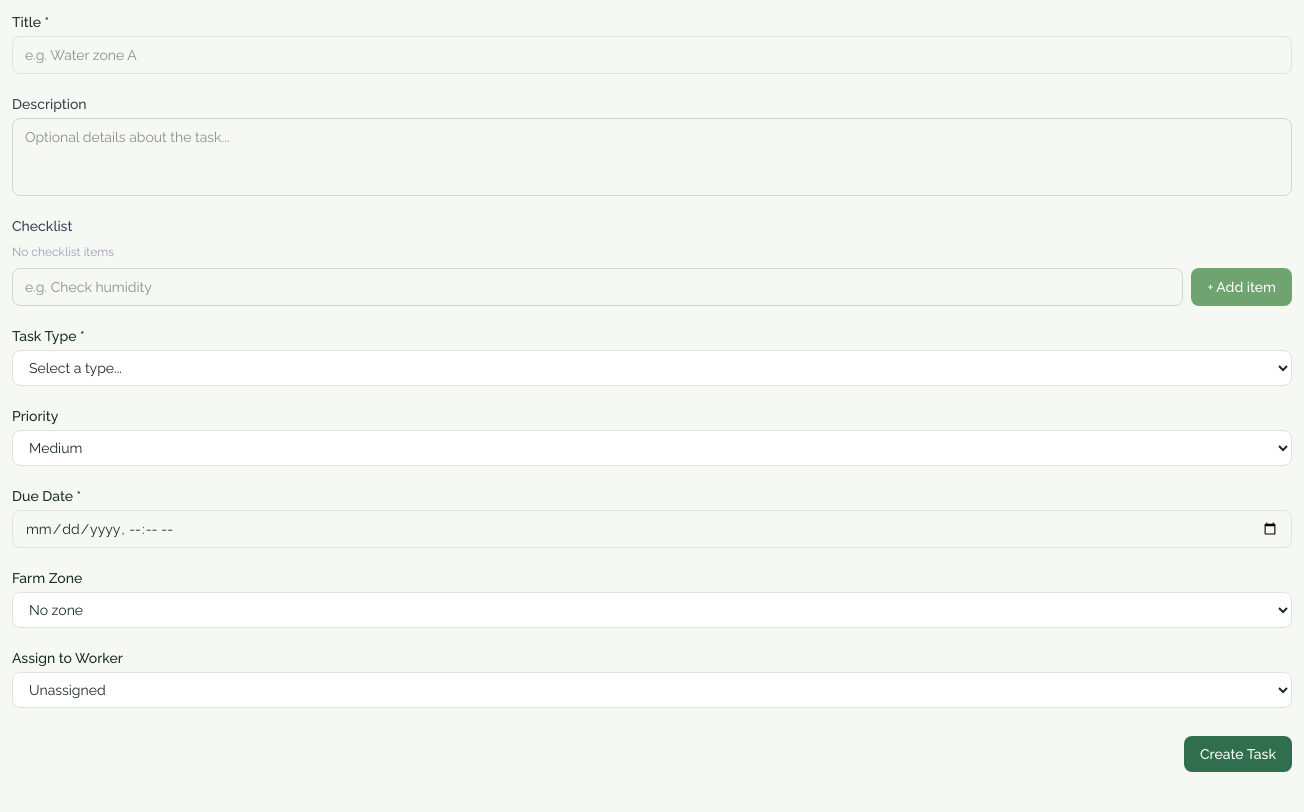
TaskForm – checklist section › adds a new checklist item via the Enter key
Type "Enter step" into the field with placeholder "e.g. Check humidity".
click(598, 287); type("Enter step")  # box [12,268,1183,306]
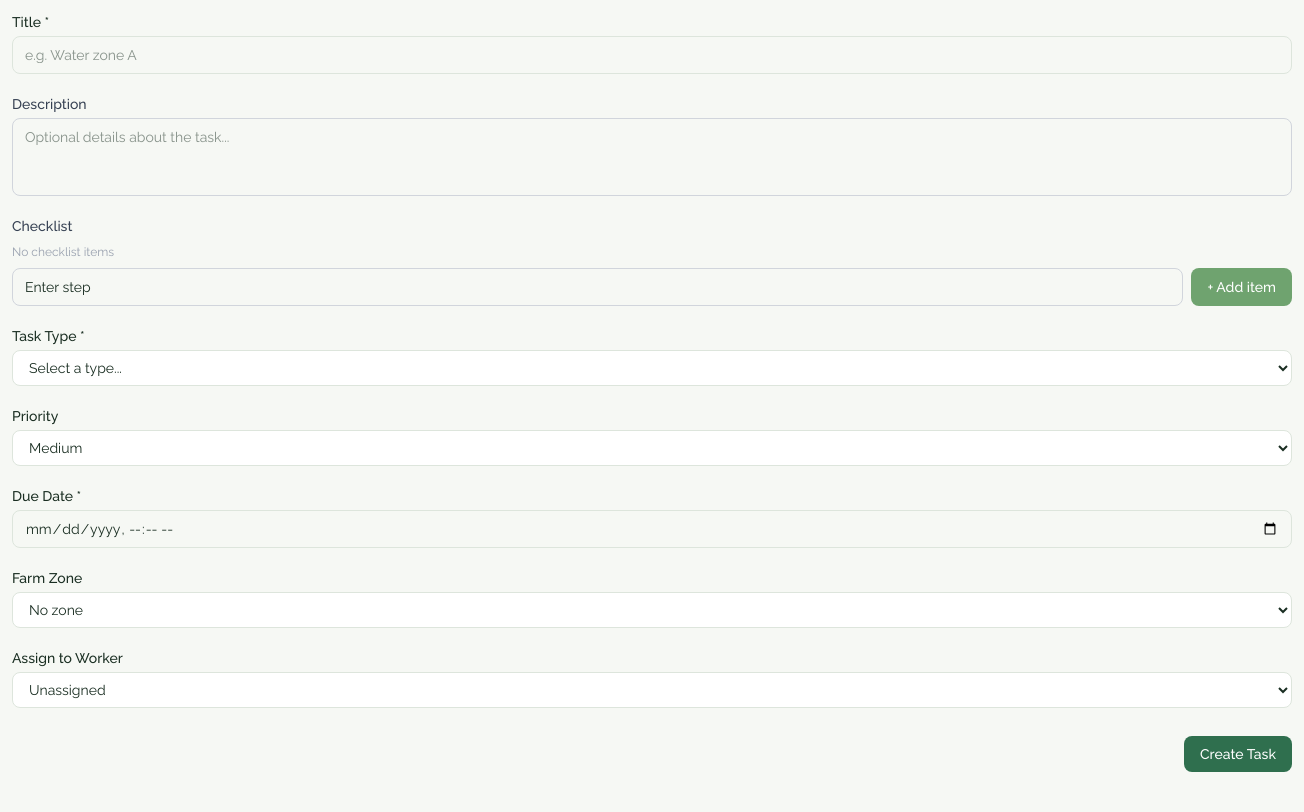
Press Enter in the field with placeholder "e.g. Check humidity", box [12,268,1183,306]
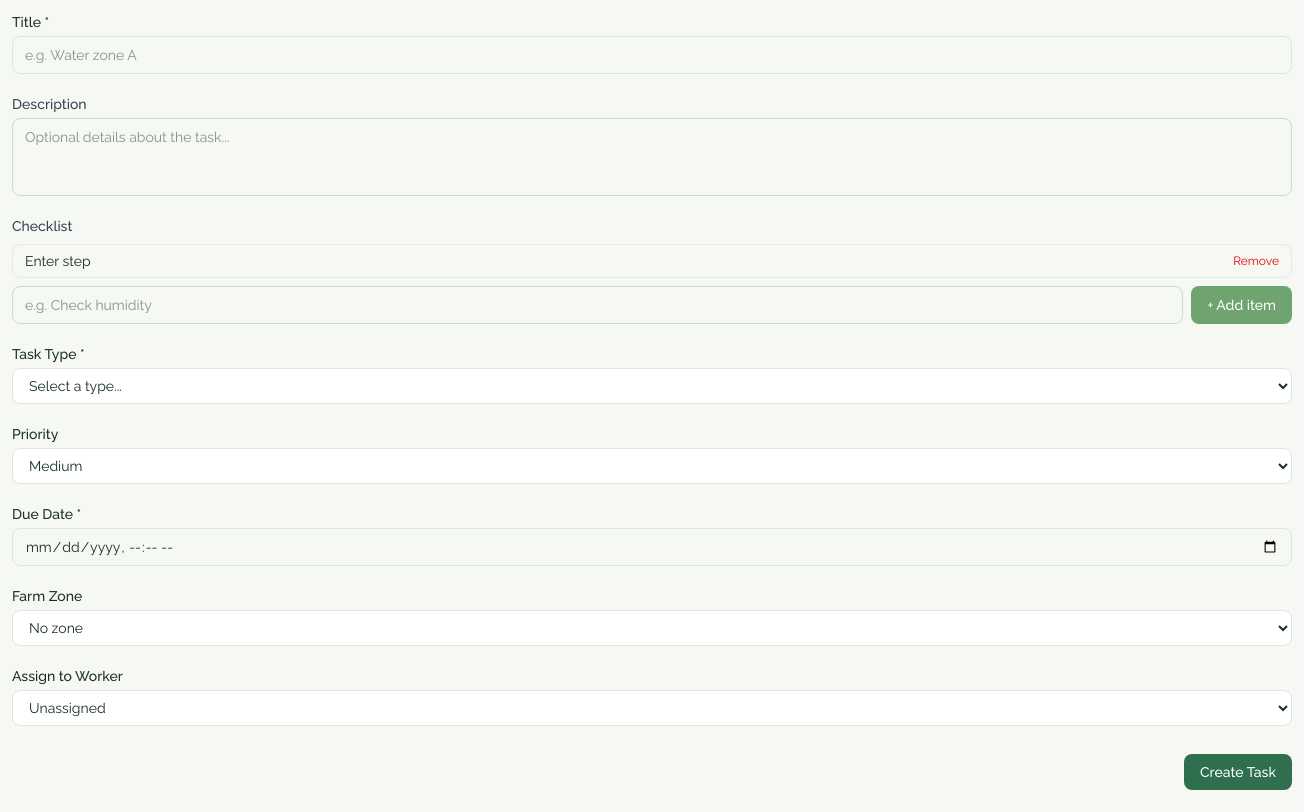
Expected: the number of fields named "Edit item" is 1, [25,251,1225,271]
Expected: the field named "Edit item" holds "Enter step", [25,251,1225,271]
